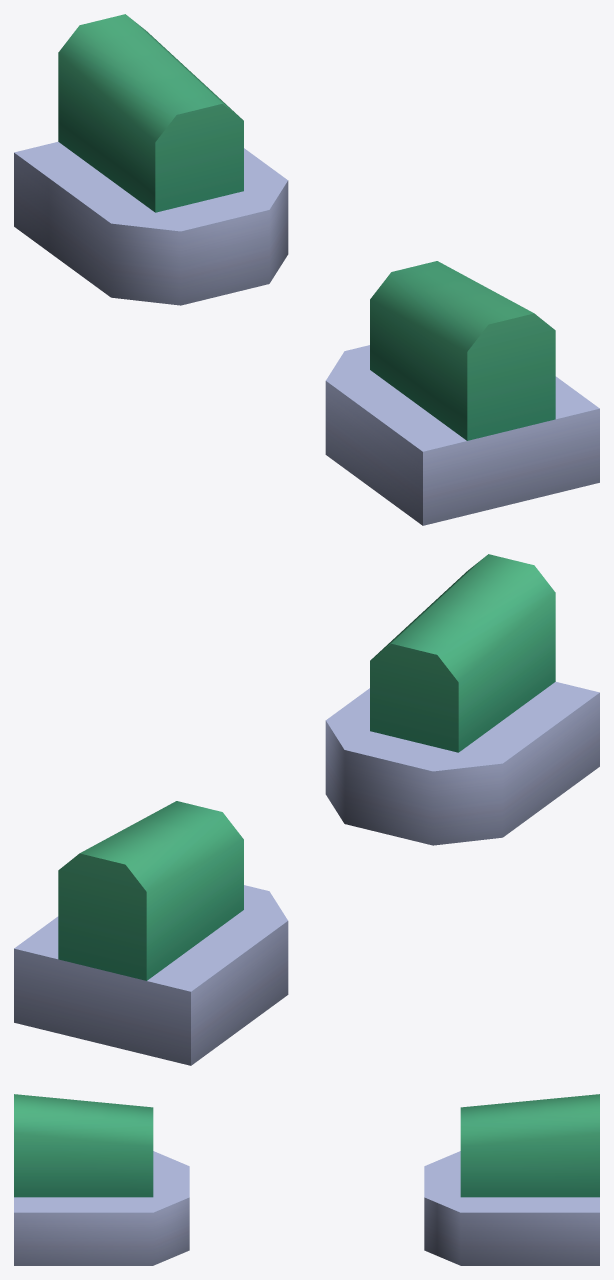
Rendered from hackgrind.glb.
The picture shows the model from 3 angles, top to bottom: view 1: azimuth 30°, elevation 25°; view 2: azimuth 150°, elevation 25°; view 3: azimuth 270°, elevation 25°; orthographic projection. The views are drawn at different scales.
Parts seen in each view (by area): view 1: hedge-gate; view 2: hedge-gate; view 3: hedge-gate.
Boxes of the visible parts, bbox=[...] form: hedge-gate: bbox=[14, 14, 599, 525]; hedge-gate: bbox=[14, 554, 599, 1065]; hedge-gate: bbox=[14, 1094, 599, 1265].
Bounding box in the file's own units: 0.25 × 0.25 × 1.
Materials: 1 (1 with a texture image).
